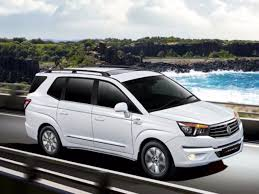car: (16, 57, 248, 183)
